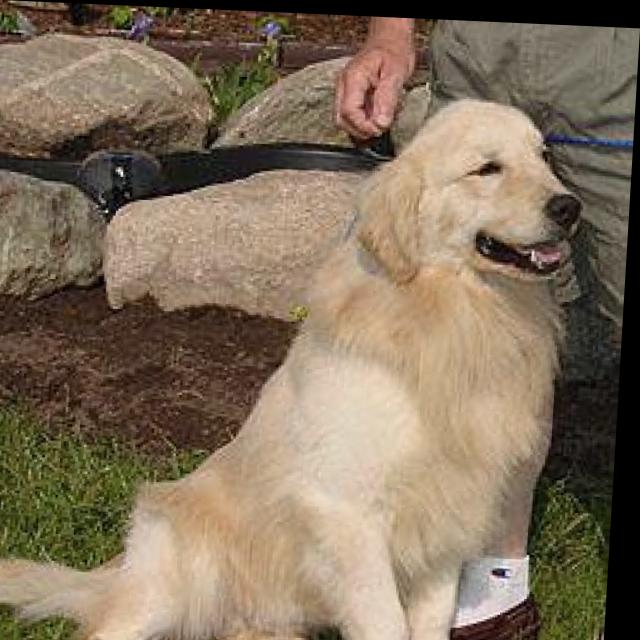golden: (336, 70, 612, 329)
